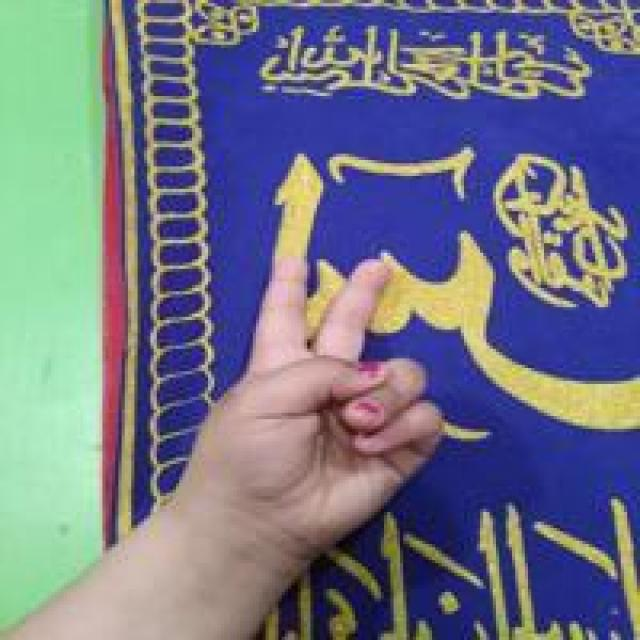V: (176, 251, 451, 565)
